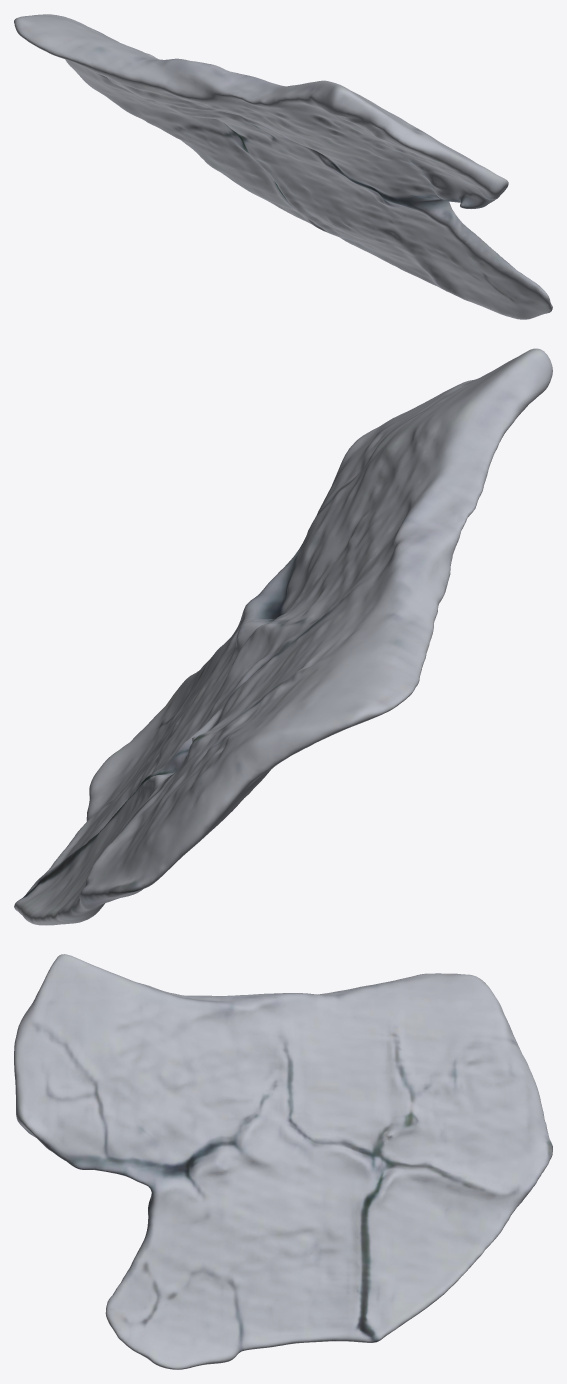
File: e432298781b0_ice_crack_white__3d.fbx
3 views of the same model, one above another, from view 1: azimuth 30°, elevation 25°; view 2: azimuth 150°, elevation 25°; view 3: azimuth 270°, elevation 25° (orthographic). The views are drawn at different scales.
Visible parts, largest first — view 1: high_poly; view 2: high_poly; view 3: high_poly.
Boxes of the visible parts, <box> form: high_poly: <box>14,14,552,319</box>; high_poly: <box>14,348,552,925</box>; high_poly: <box>14,954,552,1369</box>.
Bounding box in the file's own units: 72.05 × 62.5 × 100.
